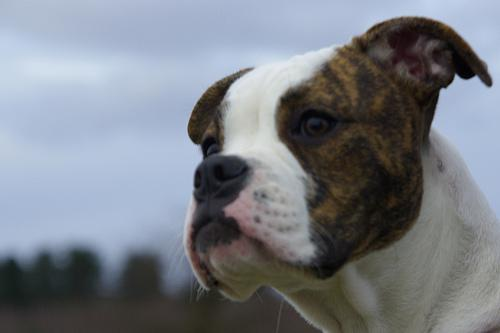dog-american_bulldog: (182, 15, 490, 300)
